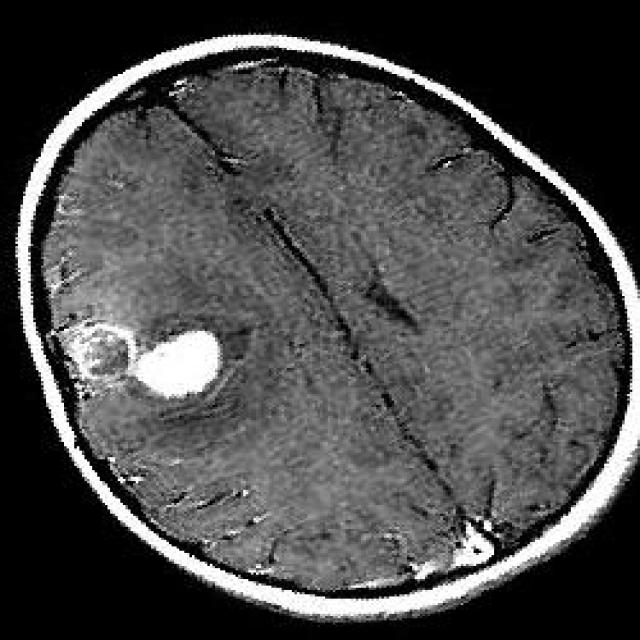Tumor-Cell: (64, 307, 228, 407)
